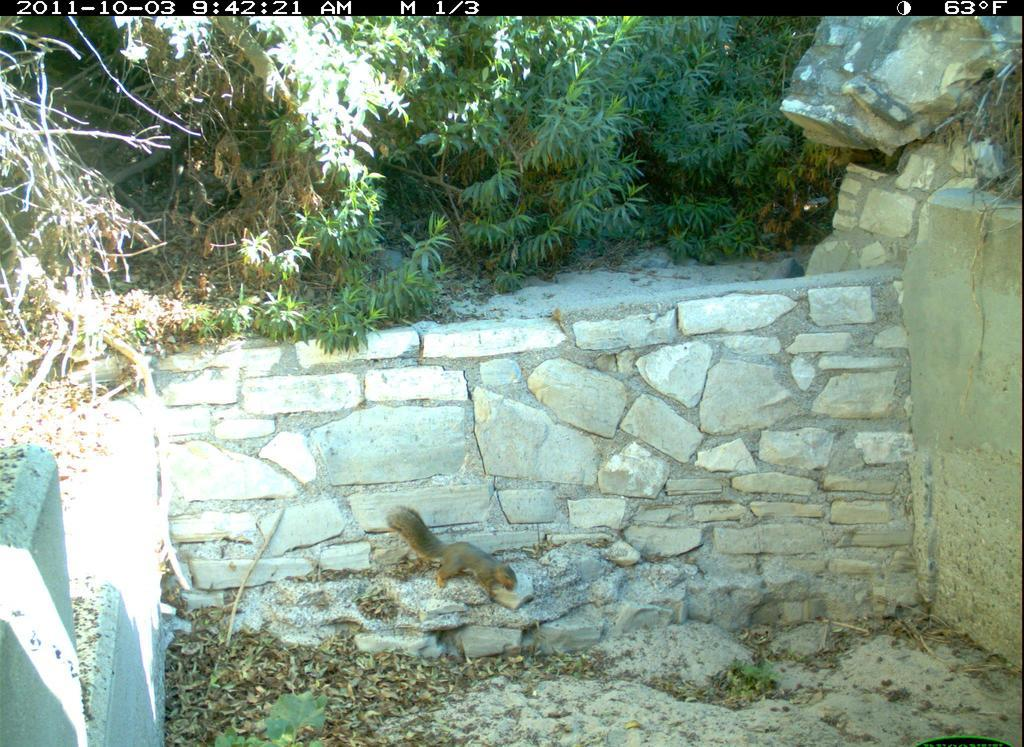squirrel: (379, 493, 539, 607)
